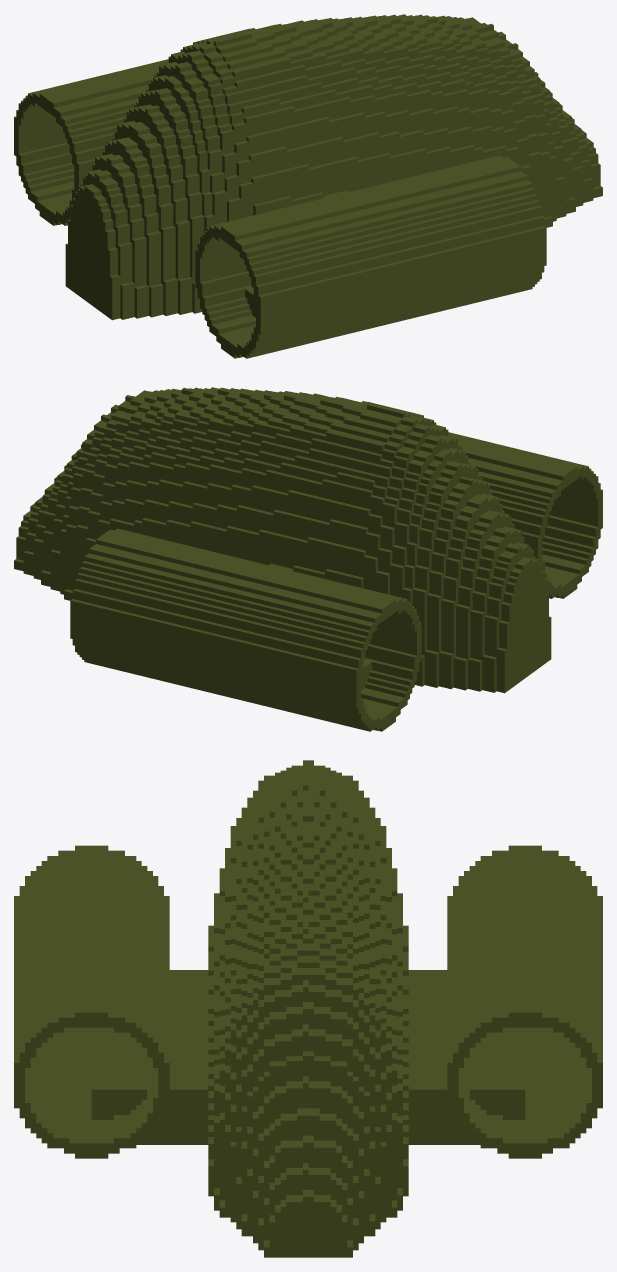
File: heavy_cargo_helicopter_rear_pylon.glb
3 renders of one model, top to bottom at view 1: azimuth 30°, elevation 25°; view 2: azimuth 150°, elevation 25°; view 3: azimuth 270°, elevation 25°, orthographic. The views are drawn at different scales.
Parts seen in each view (by area): view 1: body:compound; view 2: body:compound; view 3: body:compound.
Part boxes in pixels (x1,y1,x2,y2): body:compound: (14, 14, 602, 358); body:compound: (14, 387, 602, 731); body:compound: (14, 760, 602, 1257).
Bounding box in the file's own units: 3.84 × 1.75 × 3.31.
